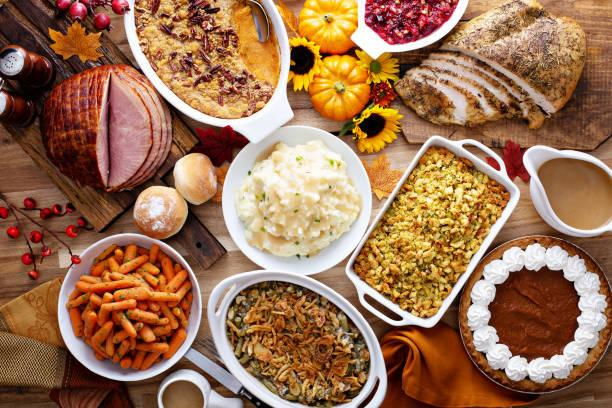Braised Crucian Carp: (350, 144, 515, 324), (206, 268, 385, 405), (461, 237, 612, 395), (126, 0, 295, 133), (220, 125, 369, 274), (55, 233, 196, 383)
